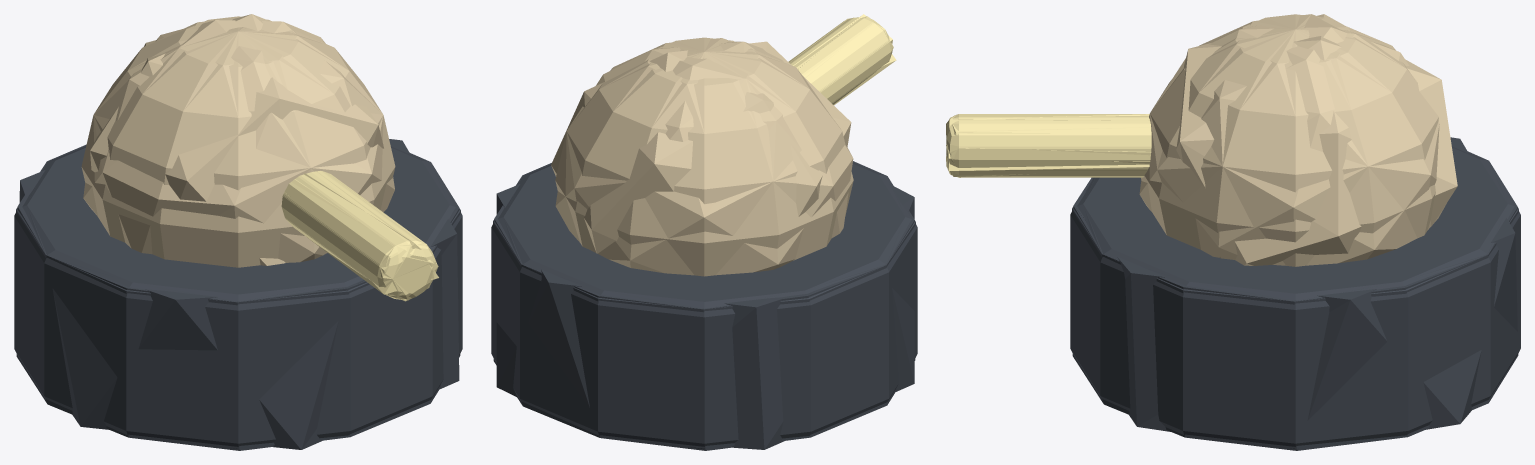
Rendered from SM_Mortar.fbx.
3 views of the same model, side by side, from view 1: azimuth 30°, elevation 25°; view 2: azimuth 150°, elevation 25°; view 3: azimuth 270°, elevation 25° (orthographic). The views are drawn at different scales.
Parts seen in each view (by area): view 1: SM_Mortar, LOD1_SM_Mortar, LOD3_SM_Mortar, LOD2_SM_Mortar; view 2: SM_Mortar, LOD1_SM_Mortar, LOD3_SM_Mortar, LOD2_SM_Mortar; view 3: SM_Mortar, LOD1_SM_Mortar, LOD3_SM_Mortar, LOD2_SM_Mortar.
Boxes of the visible parts, left/top/right/bottom form: SM_Mortar: left=14, top=16, right=462, bottom=448; LOD1_SM_Mortar: left=16, top=21, right=460, bottom=448; LOD3_SM_Mortar: left=19, top=14, right=459, bottom=449; LOD2_SM_Mortar: left=17, top=20, right=459, bottom=450; SM_Mortar: left=491, top=17, right=917, bottom=449; LOD1_SM_Mortar: left=493, top=16, right=915, bottom=448; LOD3_SM_Mortar: left=496, top=15, right=914, bottom=449; LOD2_SM_Mortar: left=494, top=14, right=914, bottom=450; SM_Mortar: left=946, top=14, right=1520, bottom=448; LOD1_SM_Mortar: left=946, top=14, right=1518, bottom=448; LOD3_SM_Mortar: left=946, top=14, right=1518, bottom=450; LOD2_SM_Mortar: left=948, top=14, right=1517, bottom=450.
Bounding box in the file's own units: 0.36 × 0.2924 × 0.4592.
